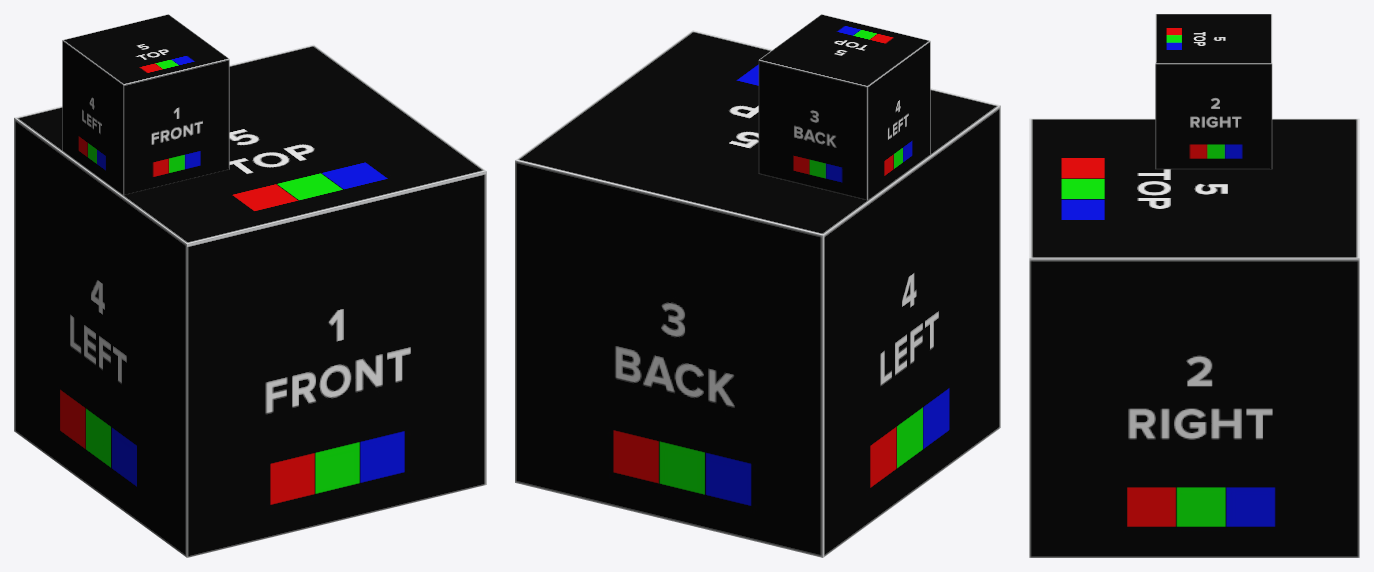
The model's file is directional-light-and-camera.gltf.
3 views of the same model, side by side, from view 1: azimuth 30°, elevation 25°; view 2: azimuth 150°, elevation 25°; view 3: azimuth 270°, elevation 25° (orthographic). The views are drawn at different scales.
Parts seen in each view (by area): view 1: Cube, Cube2; view 2: Cube, Cube2; view 3: Cube, Cube2.
Boxes of the visible parts, bbox=[...] form: Cube: bbox=[14, 44, 486, 557]; Cube2: bbox=[62, 14, 229, 195]; Cube: bbox=[515, 30, 1000, 557]; Cube2: bbox=[758, 14, 930, 200]; Cube: bbox=[1029, 118, 1359, 557]; Cube2: bbox=[1155, 14, 1272, 169].
Bounding box in the file's own units: 2 × 2.71 × 2.
Materials: 1 (1 with a texture image).
